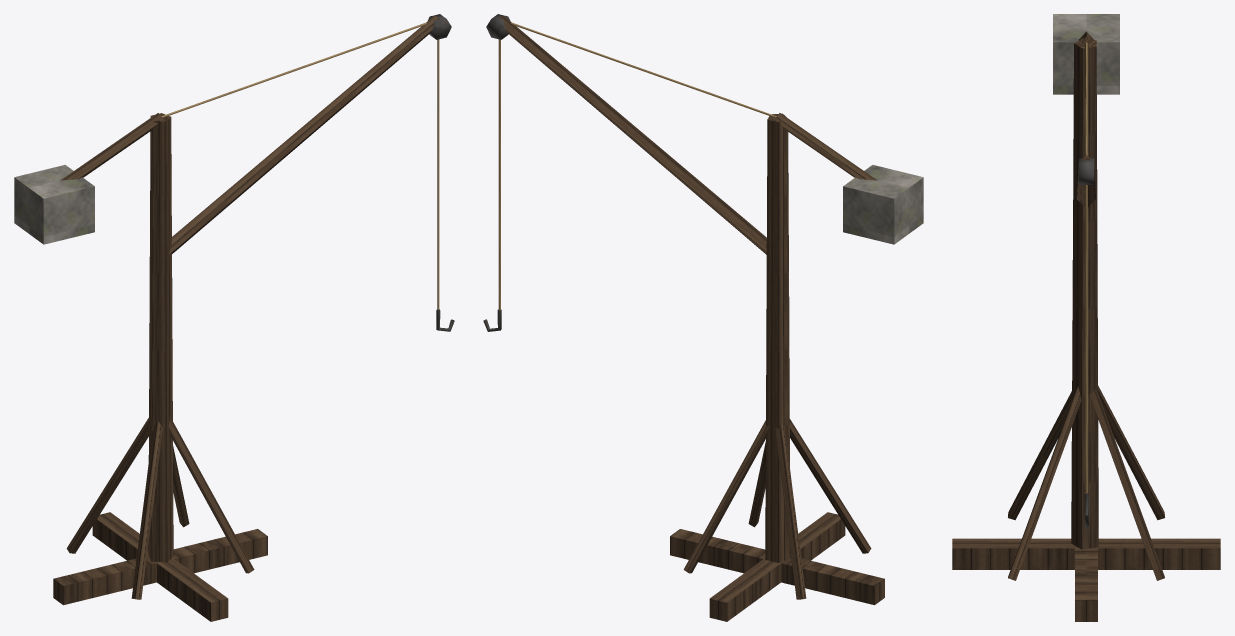
The model's file is Crane_Wood_1_LOD1.gltf.
3 renders of one model, left to right at view 1: azimuth 30°, elevation 25°; view 2: azimuth 150°, elevation 25°; view 3: azimuth 270°, elevation 25°, orthographic. The views are drawn at different scales.
Visible parts, largest first — view 1: Crane_Wood_1_LOD1; view 2: Crane_Wood_1_LOD1; view 3: Crane_Wood_1_LOD1.
Boxes of the visible parts, bbox=[...] form: Crane_Wood_1_LOD1: bbox=[14, 14, 454, 621]; Crane_Wood_1_LOD1: bbox=[483, 14, 923, 621]; Crane_Wood_1_LOD1: bbox=[952, 14, 1220, 621].
Bounding box in the file's own units: 5.82 × 6.47 × 2.8.
Materials: 4 (4 with a texture image).
